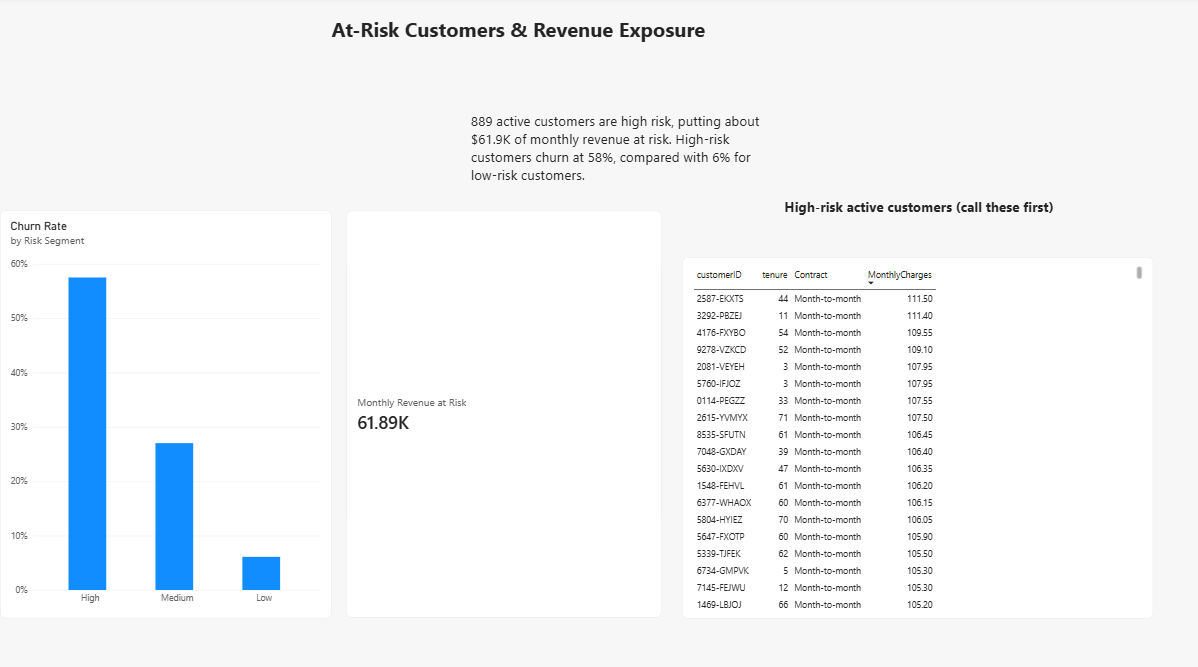

The page's visual inventory and layout, read from the dashboard file:
{"tool":"powerbi","page":{"name":"At-Risk Customers","canvas":[1920,1080],"ordinal":2},"visuals":[{"type":"clusteredColumnChart","fields":{"Category":["Customers.Risk Segment"],"Y":["Customers.Churn Rate"]},"box":[0,341.2,527.3,649],"z":0},{"type":"tableEx","fields":{"Values":["Customers.customerID","Customers.tenure","Customers.Contract","Customers.MonthlyCharges"]},"box":[1085.6,415.1,748.4,575.4],"z":1},{"type":"cardVisual","fields":{"Data":["Customers.Monthly Revenue at Risk"]},"box":[551.1,341.2,501,649],"z":2},{"type":"textbox","box":[527.2,31.2,912.8,119.1],"z":3},{"type":"textbox","box":[749.2,183.7,477.2,136],"z":4},{"type":"textbox","box":[1247.8,319.7,549.9,79.4],"z":5}]}

Visuals, with their boxes in screenshot pixels (x1, y1, x2, y2), scaled from the page's 1920x1080 canvas onto the 1198x667 screenshot:
clusteredColumnChart - Customers.Risk Segment x Customers.Churn Rate: bbox=(0, 211, 329, 612)
tableEx - Customers.customerID x Customers.tenure: bbox=(677, 256, 1144, 612)
cardVisual - Customers.Monthly Revenue at Risk: bbox=(344, 211, 656, 612)
textbox: bbox=(329, 19, 898, 93)
textbox: bbox=(467, 113, 765, 197)
textbox: bbox=(779, 197, 1122, 246)
